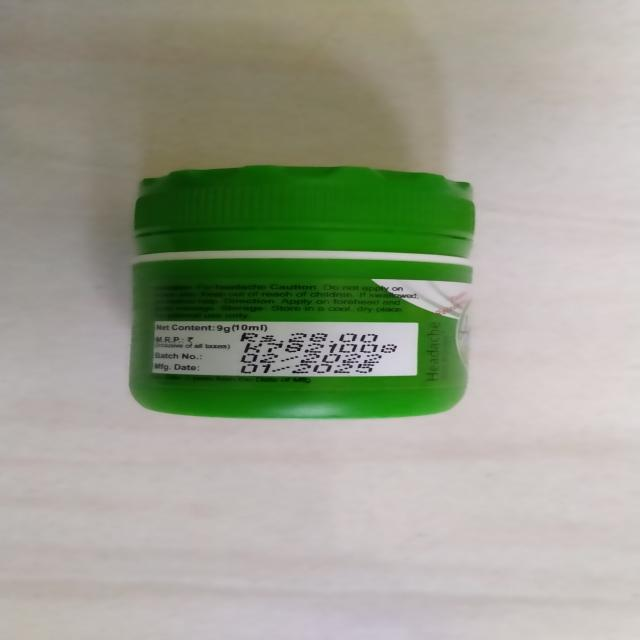eucalyptus oil: (121, 153, 474, 432)
